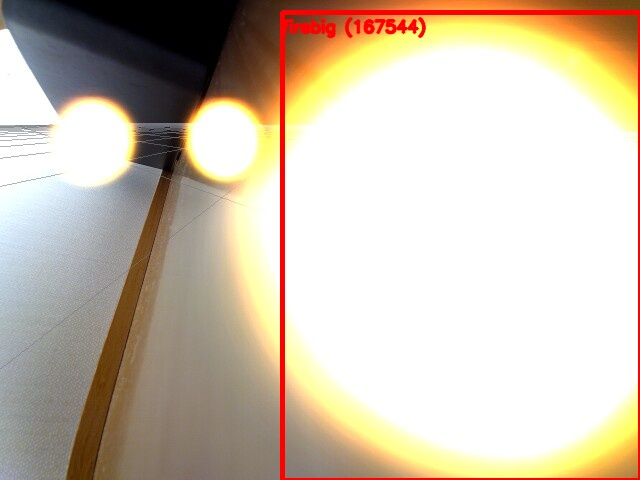firebig: (282, 12, 640, 480)
